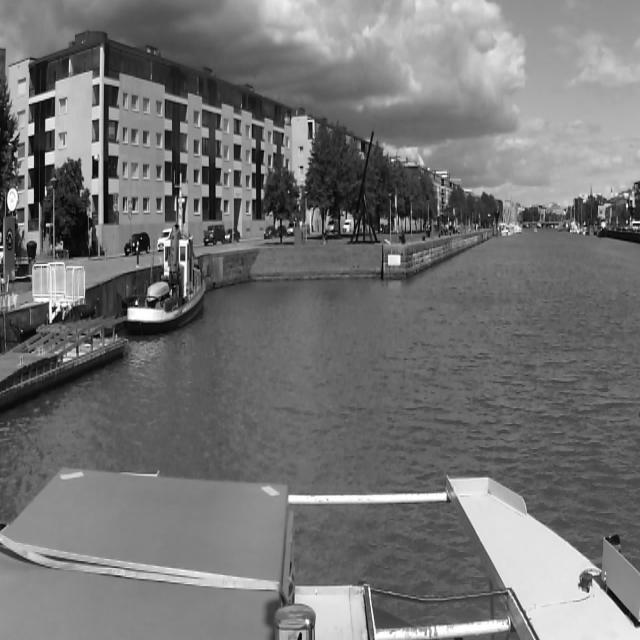ship: (124, 222, 206, 330)
